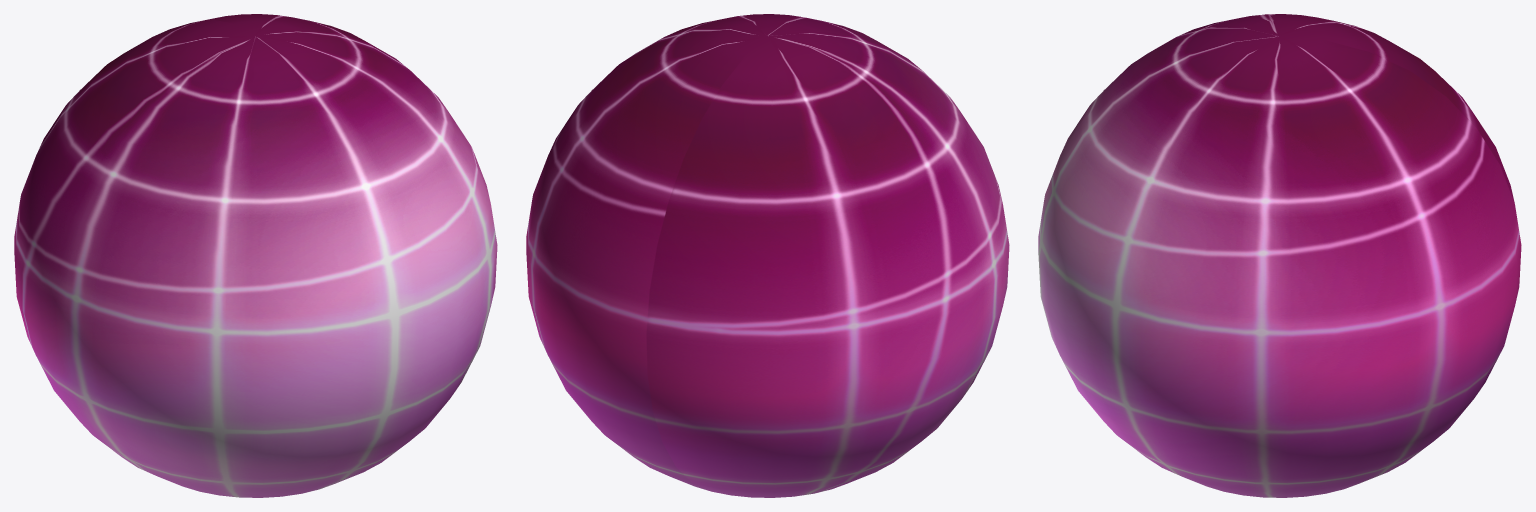
Rendered from holoSphere.FBX.
3 renders of one model, left to right at view 1: azimuth 30°, elevation 25°; view 2: azimuth 150°, elevation 25°; view 3: azimuth 270°, elevation 25°, orthographic.
Parts seen in each view (by area): view 1: Sphere001; view 2: Sphere001; view 3: Sphere001.
Part boxes in pixels (x1=…): Sphere001: x1=14, y1=14, x2=497, y2=497; Sphere001: x1=526, y1=14, x2=1009, y2=497; Sphere001: x1=1038, y1=14, x2=1521, y2=497.
Size of the model in its own units: 39.91 by 40 by 39.86.
1 material, 1 textured.
